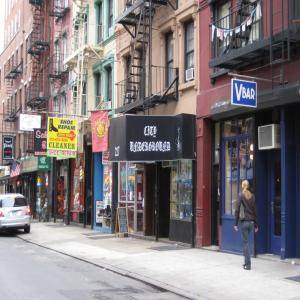Vehicle-registration-plate: (13, 213, 19, 217)
